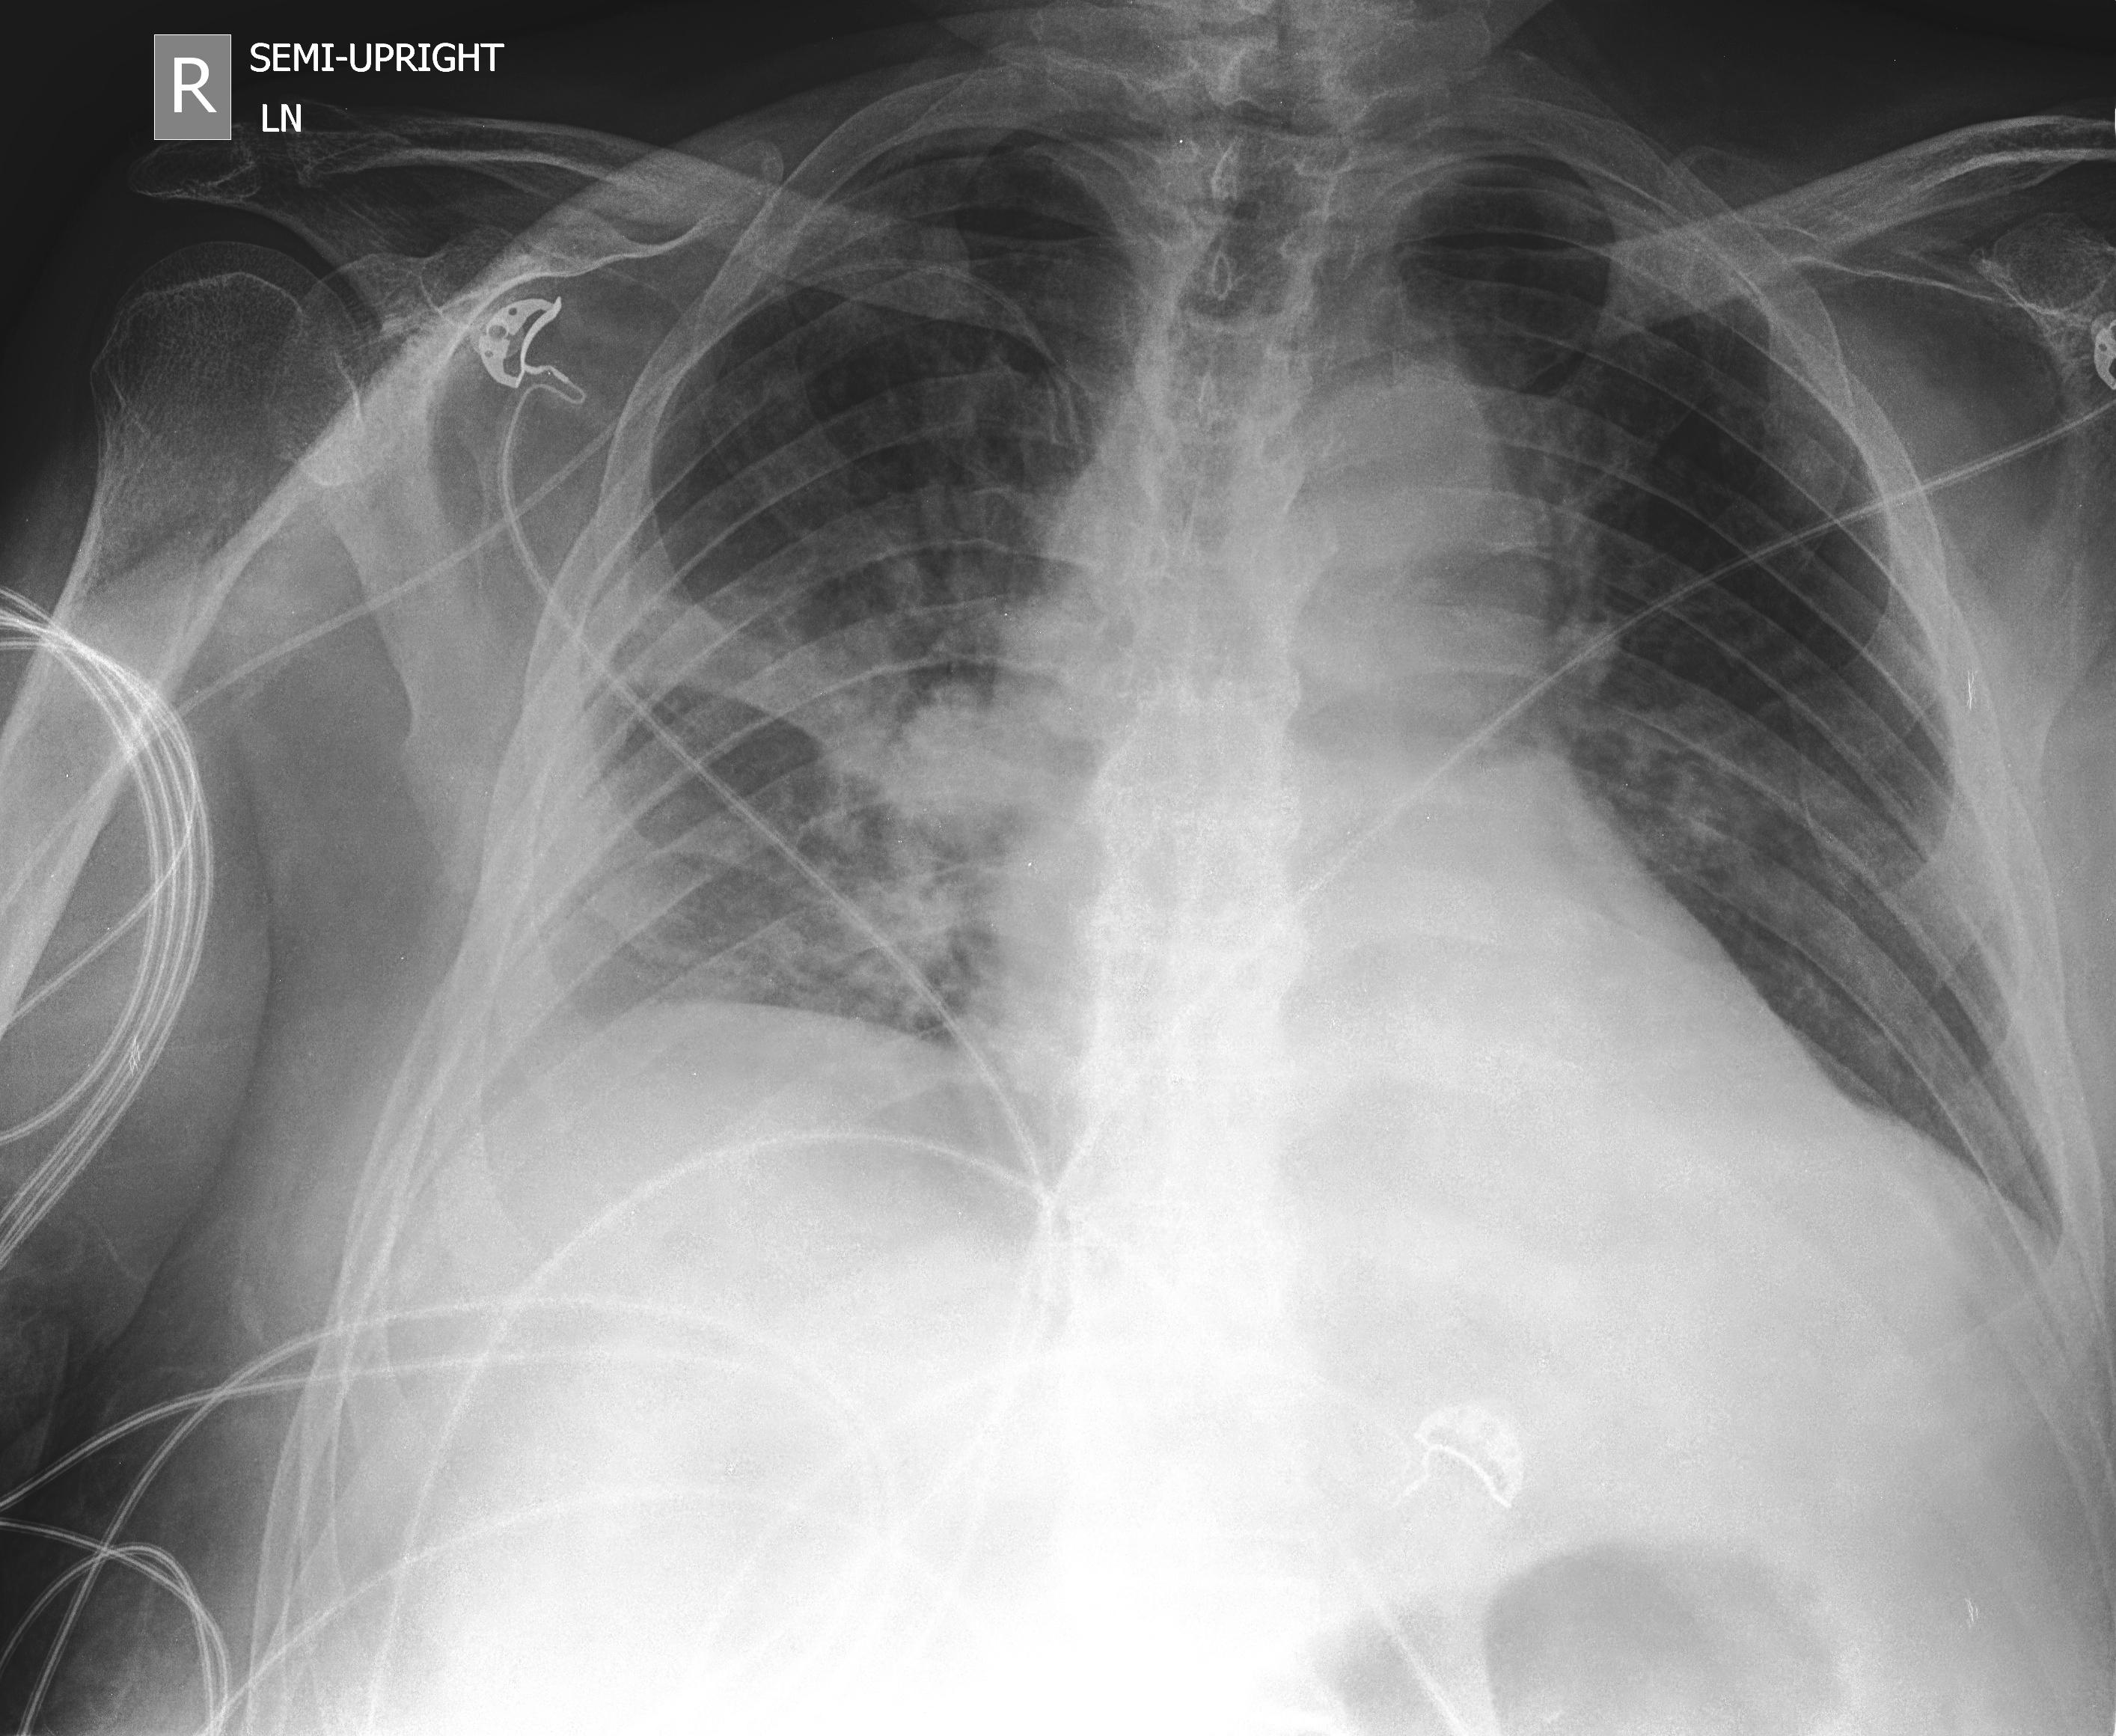Pleural Effusion: (383, 951, 942, 1402)
